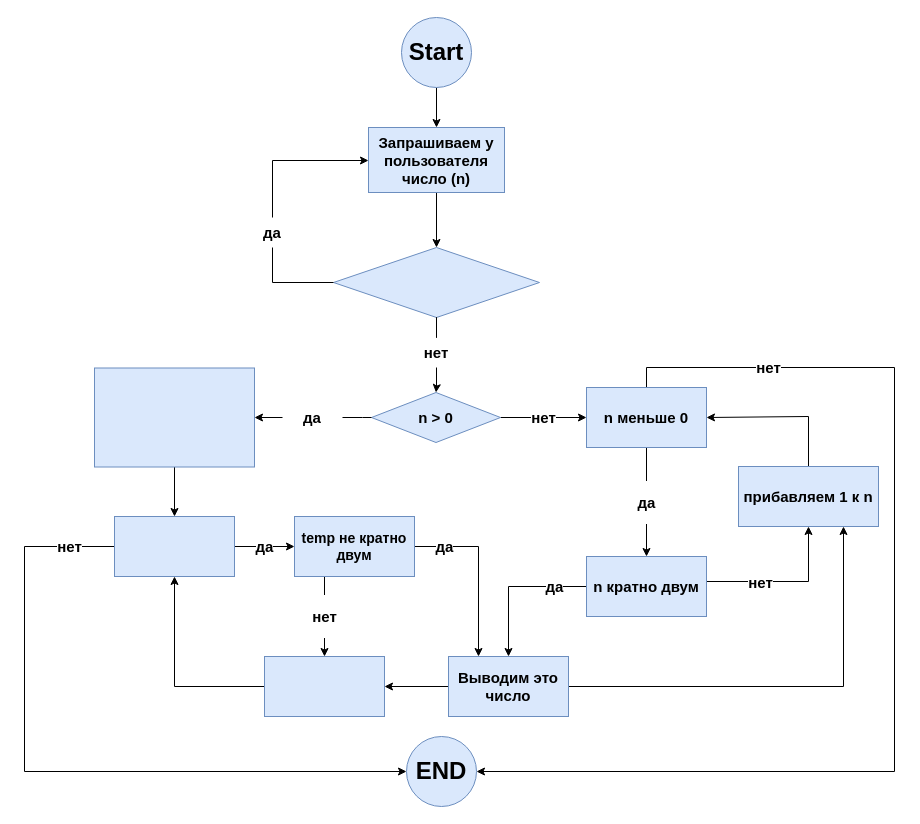
This 920x824 diagram has some shape labels left out. The centre of each missing label's shape, as x and y in pixels:
n < -80 или n > 45: [436,282]
temp меньше 1: [174,546]
Вводим новую переменную "temp" и присваиваем ей значение 1: [174,417]
прибавляем 1 к temp: [324,686]
